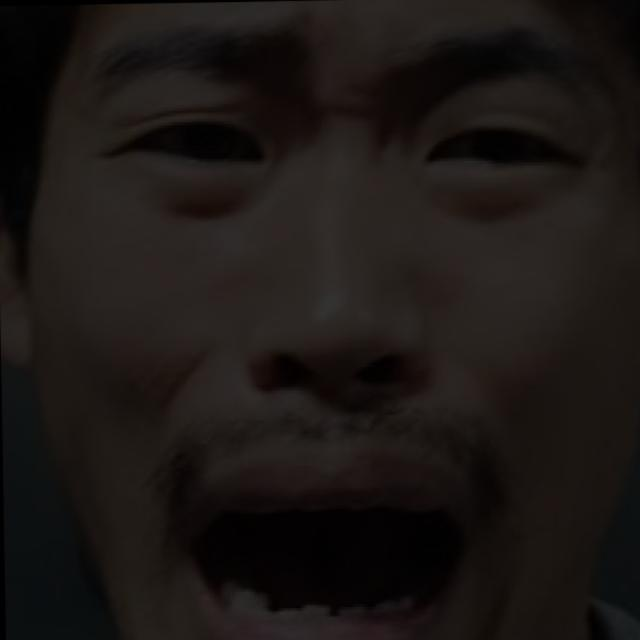Surprised: (57, 20, 621, 640)
